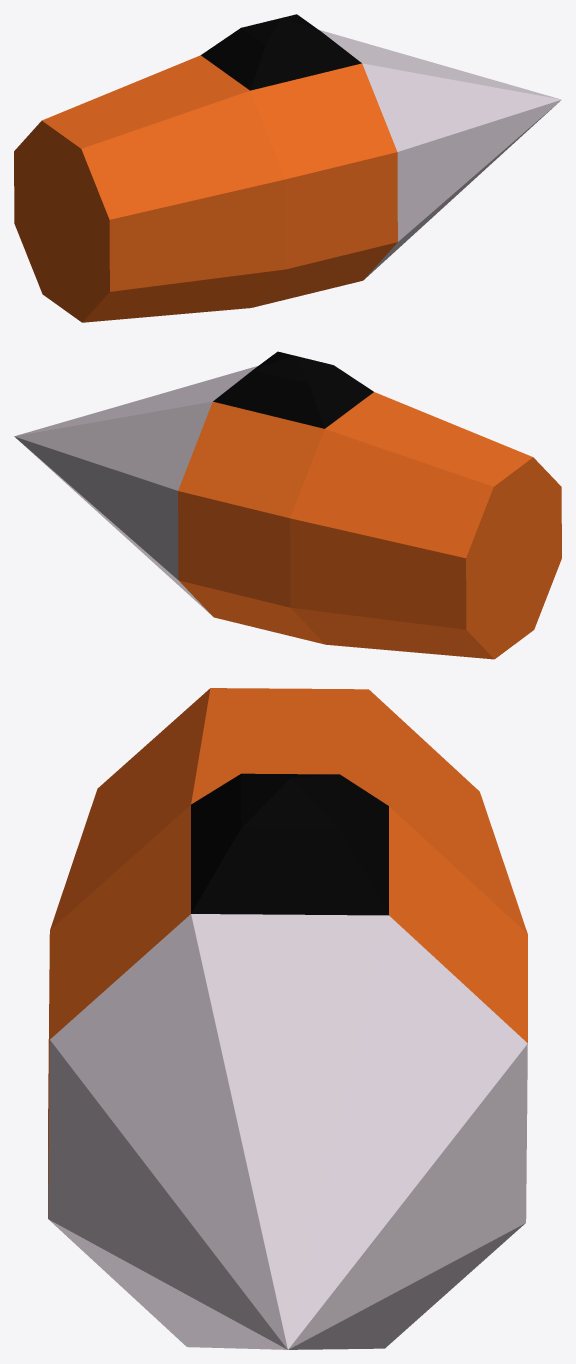
File: ScrapDriller 1.fbx
3 renders of one model, top to bottom at view 1: azimuth 30°, elevation 25°; view 2: azimuth 150°, elevation 25°; view 3: azimuth 270°, elevation 25°, orthographic. The views are drawn at different scales.
Parts seen in each view (by area): view 1: Cylinder; view 2: Cylinder; view 3: Cylinder.
Boxes of the visible parts, x1,y1,x2,y2 form: Cylinder: (14, 14, 561, 322); Cylinder: (14, 351, 561, 659); Cylinder: (48, 688, 527, 1349).
Size of the model in its own units: 446 by 220 by 185.
